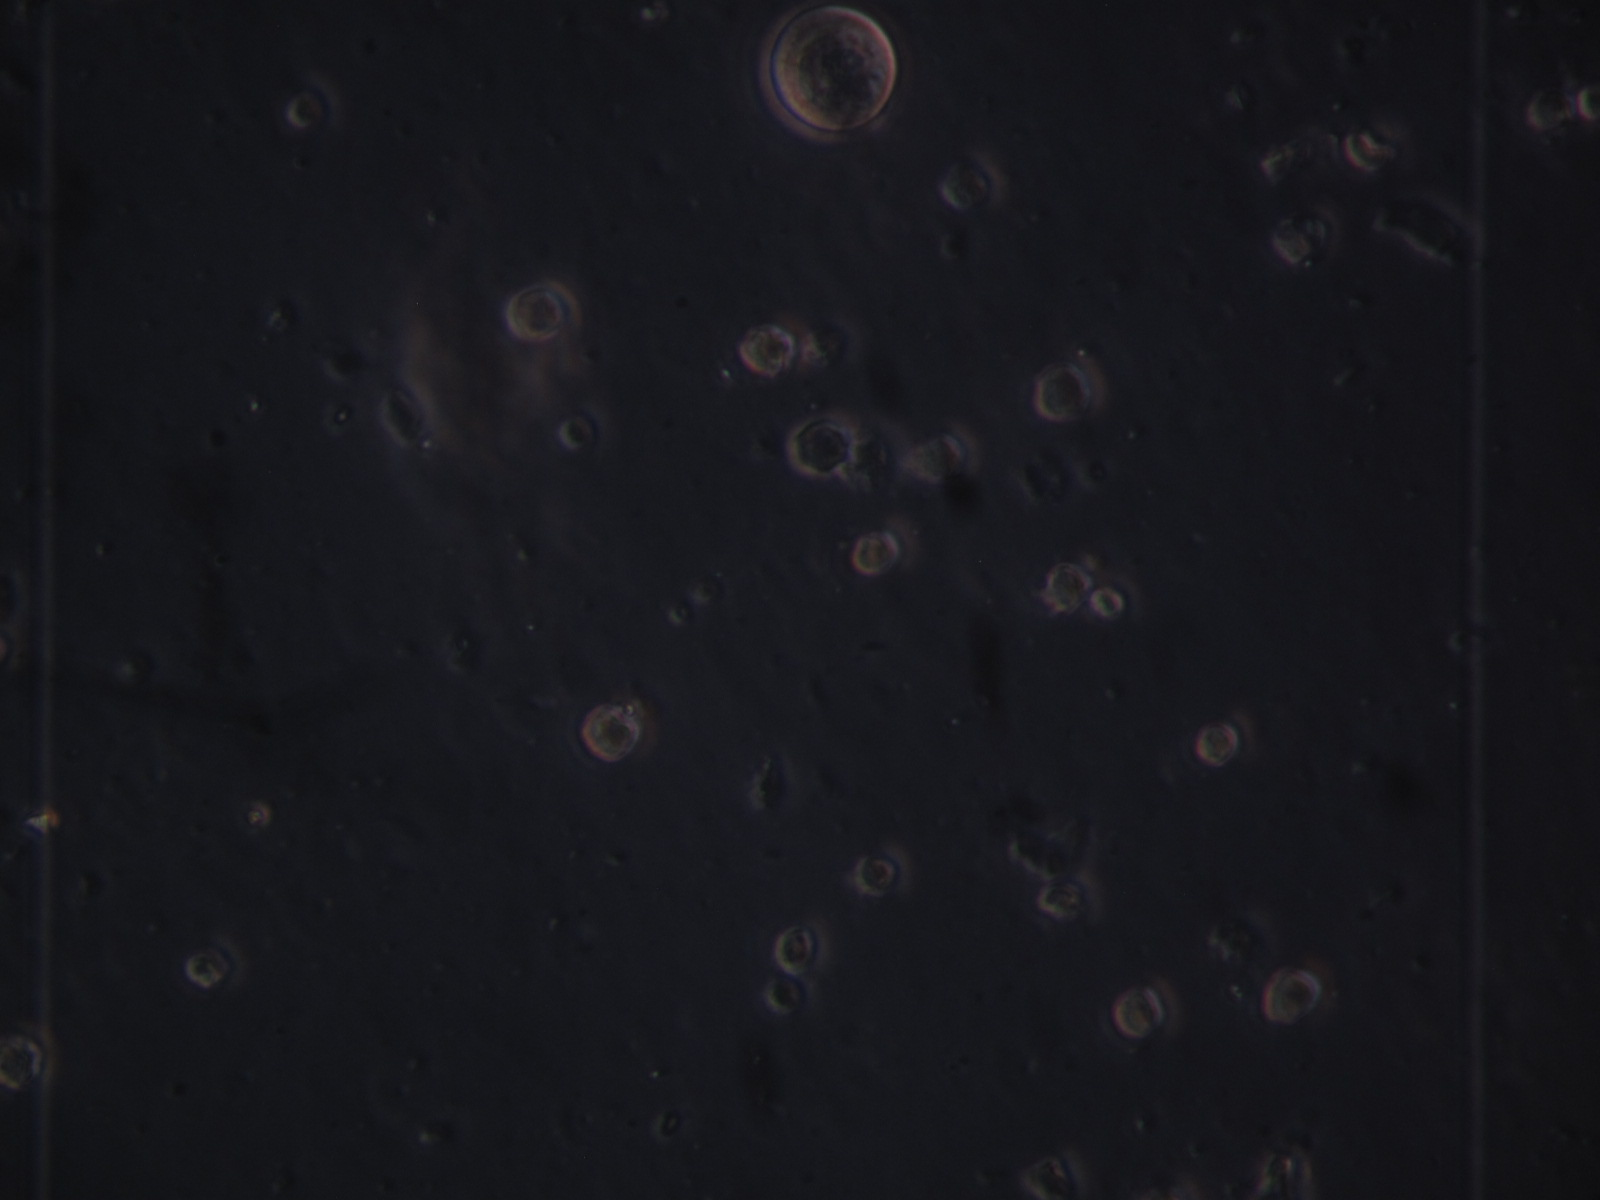hemo: (506, 279, 583, 348), (580, 698, 659, 763), (1039, 350, 1109, 424), (853, 517, 920, 581), (1115, 976, 1179, 1042), (1, 1021, 58, 1092), (941, 149, 1004, 211), (1031, 875, 1105, 926), (184, 932, 246, 989), (1262, 966, 1322, 1025), (796, 418, 858, 475), (921, 424, 980, 480), (740, 321, 795, 379), (1199, 708, 1254, 768), (775, 921, 831, 977), (857, 842, 910, 897), (1089, 572, 1143, 623), (1043, 563, 1091, 615)
